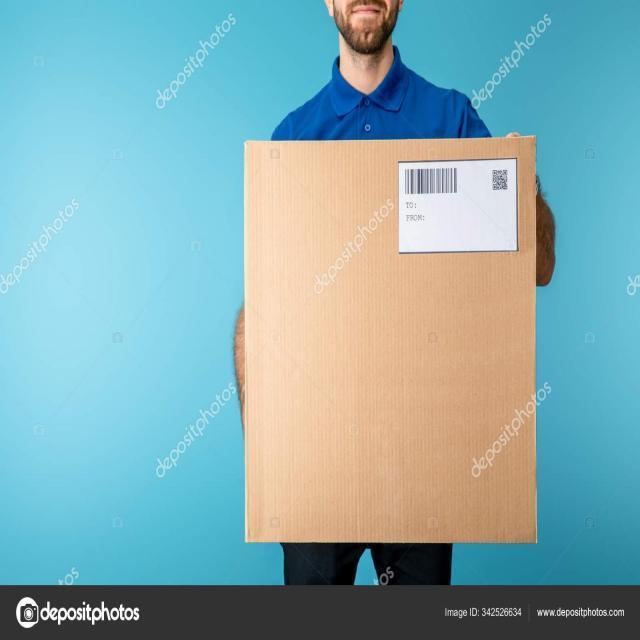box: (233, 120, 547, 551)
